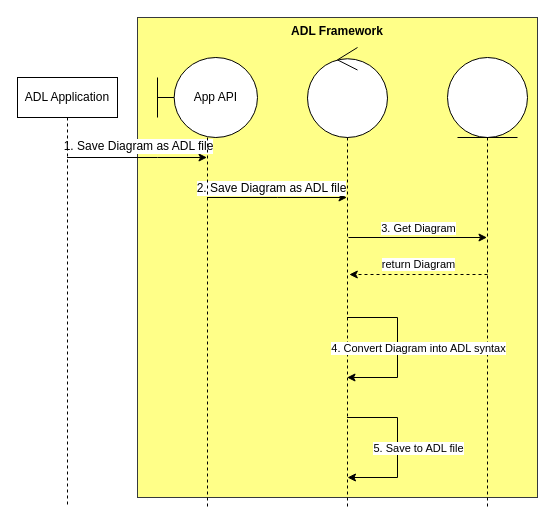
The diagram is 555 pixels wide and 525 high, and some of its shapes have lost their labels. Here are the shapes that lost their labels. From the top down, the box of each, then its label:
(306, 46, 388, 508): Diagram Manager
(446, 56, 528, 508): Diagram
